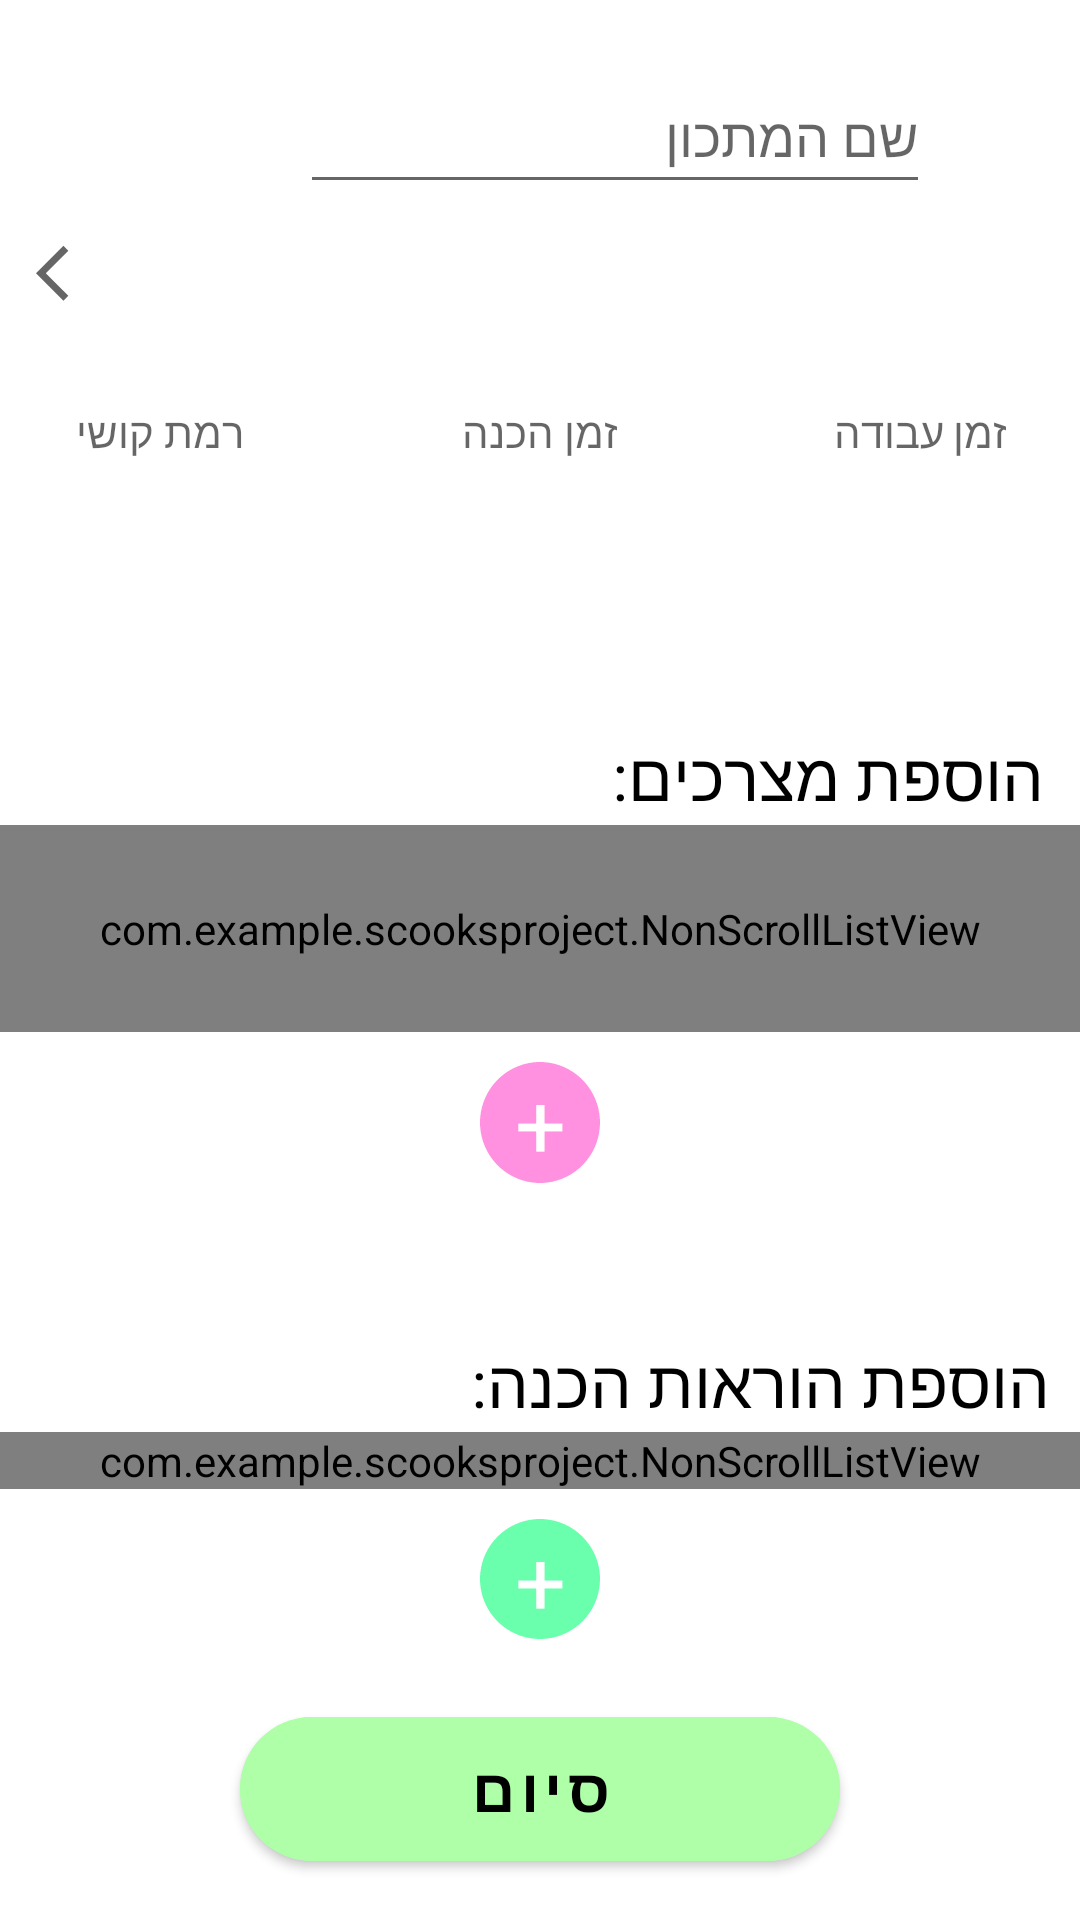

Locate icon controls on the screen. Image size 1080x1920, boxes as {"left": x1, "top": y1, "right": x2, "bottom": y2}.
arrow back: {"left": 36, "top": 246, "right": 68, "bottom": 301}
